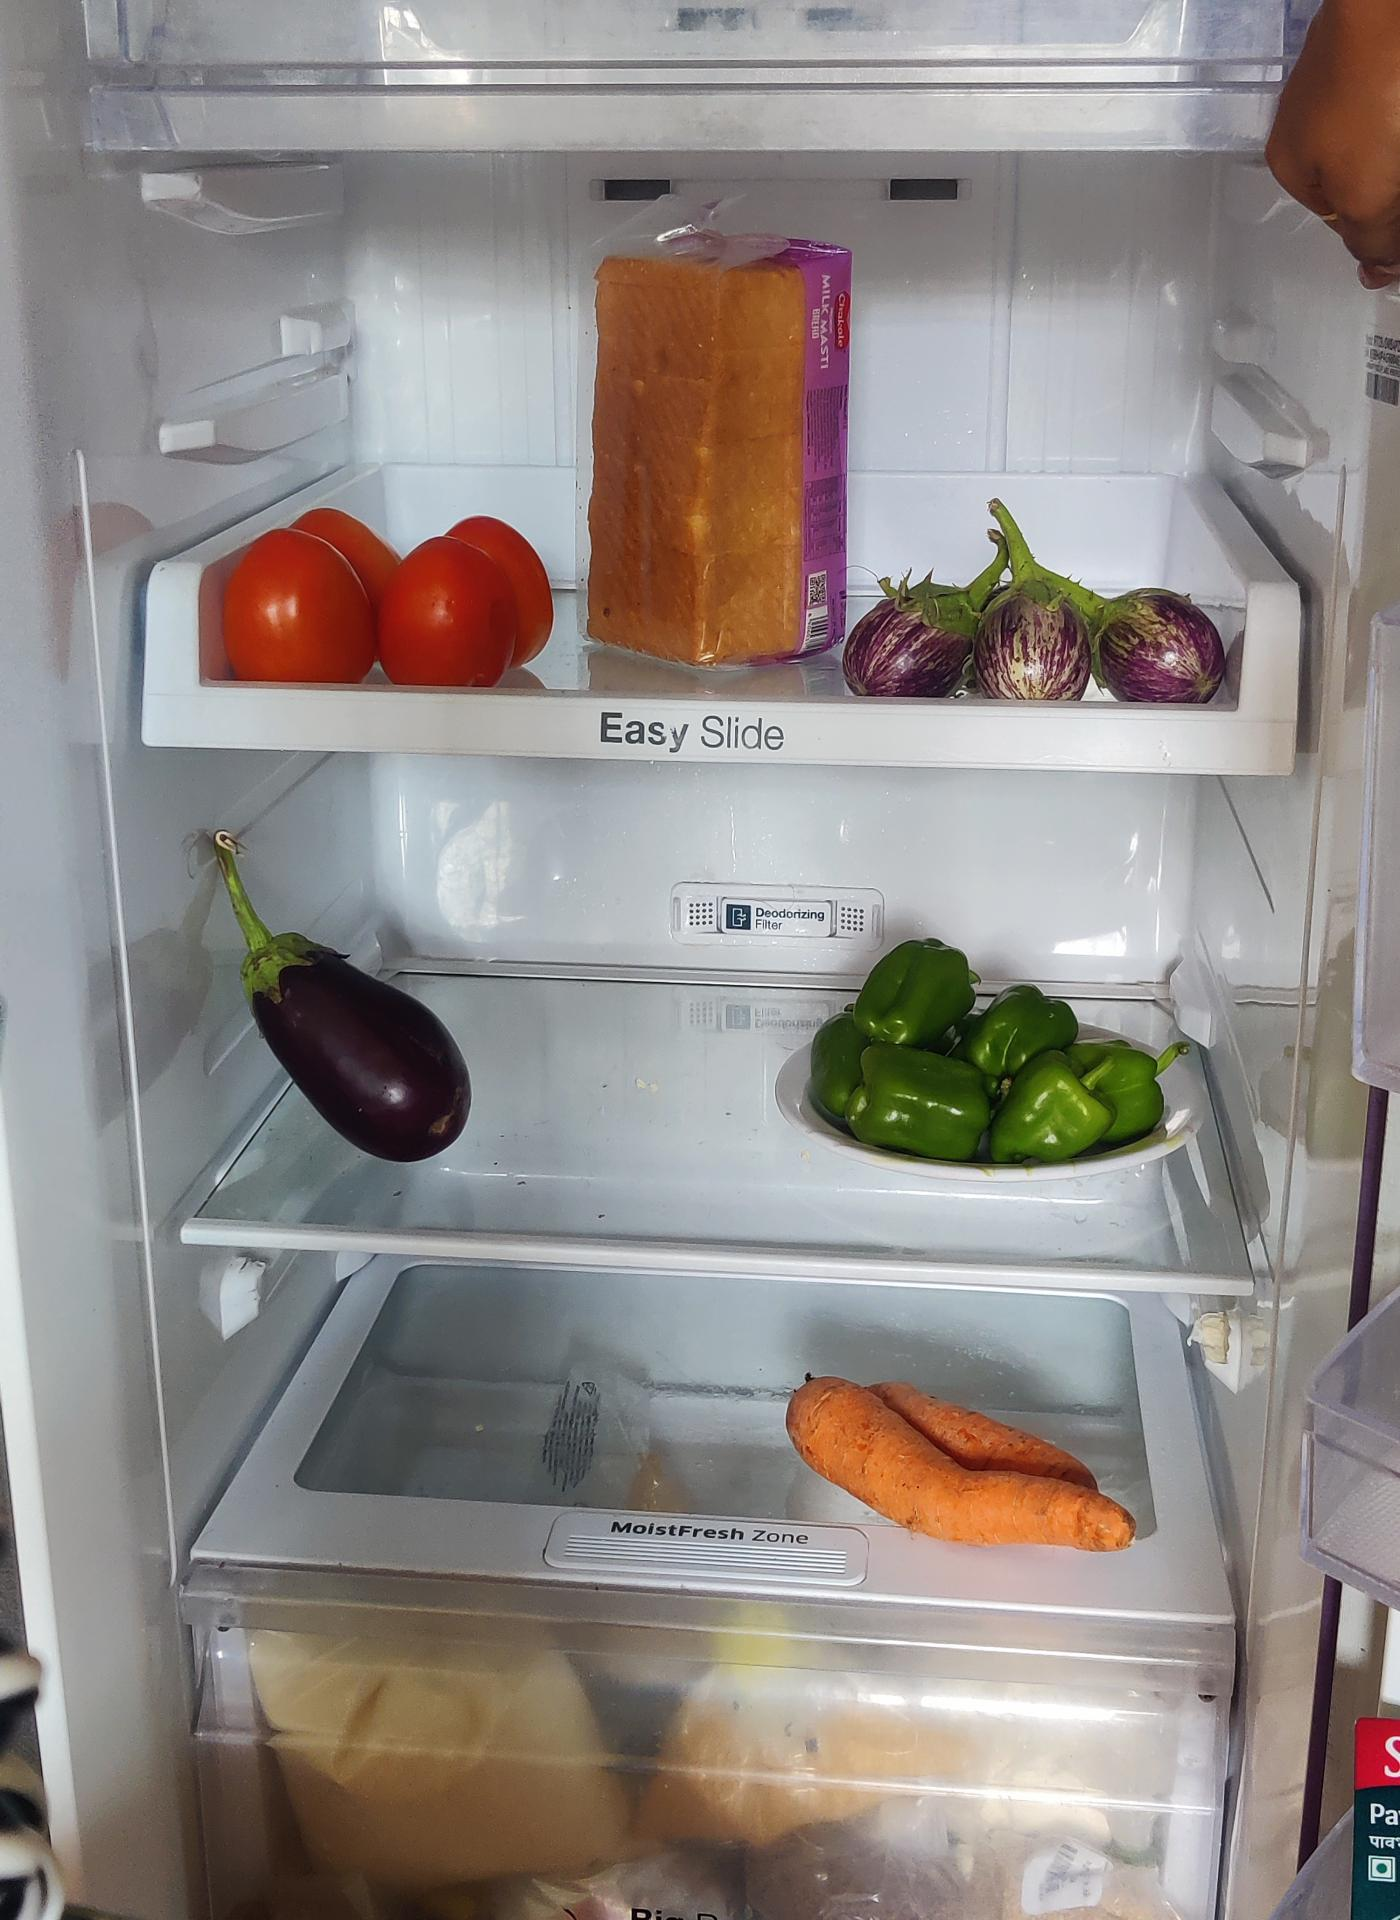bread: (580, 237, 848, 663)
brinjal: (860, 486, 1240, 711), (207, 836, 470, 1160)
capsicum: (799, 927, 1147, 1160)
carrots: (771, 1370, 1129, 1556)
tomato: (221, 496, 565, 686)
